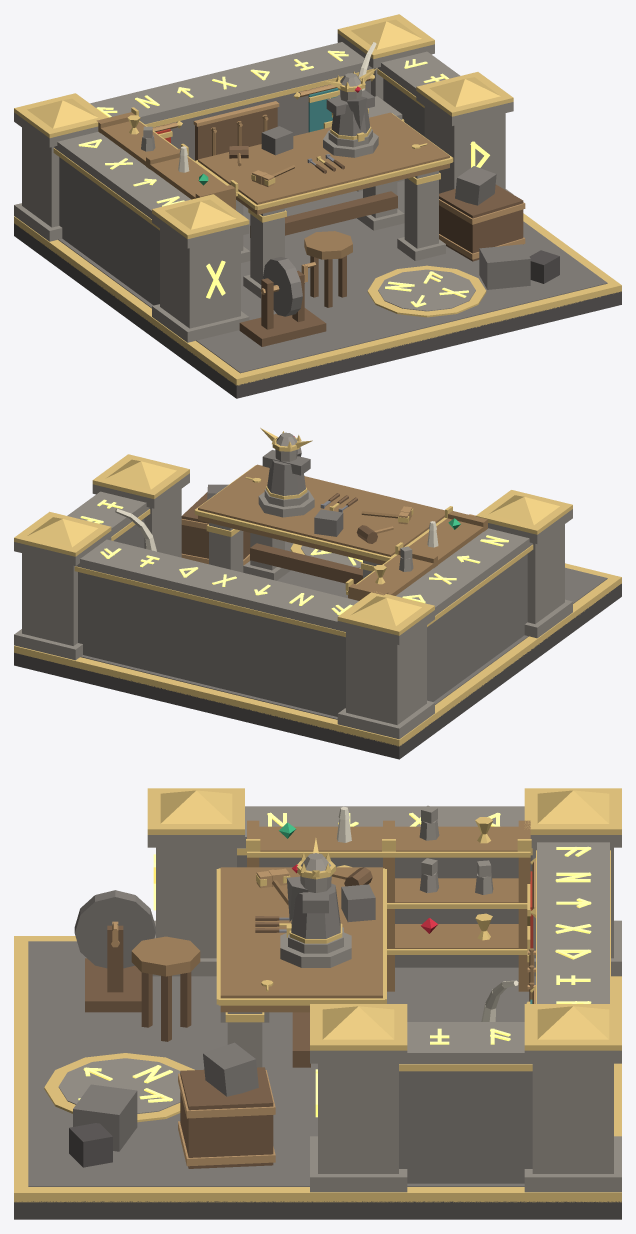
Rendered from craftsdwarf-t3.glb.
3 renders of one model, top to bottom at view 1: azimuth 30°, elevation 25°; view 2: azimuth 150°, elevation 25°; view 3: azimuth 270°, elevation 25°, orthographic. The views are drawn at different scales.
Visible parts, largest first — view 1: floor_top, table_top, pillar_fl, floor_trim, floor_base, wall_left, wall_back_cap, pillar_fr, pillar_bl, wall_left_cap, shelf, crate (+32 smaller); view 2: wall_back, table_top, pillar_bl, wall_back_cap, floor_base, wall_left, floor_trim, pillar_br, pillar_fl, wall_left_cap, shelf, floor_top (+17 smaller); view 3: floor_top, wall_right, table_top, shelf, floor_trim, pillar_br, pillar_fr, floor_base, wall_back_cap, pillar_fl, wall_left, crate (+29 smaller).
Part boxes in pixels (x1,y1,x2,y2): floor_top: (58,179,607,373); table_top: (198,112,449,214); pillar_fl: (152,213,249,342); floor_trim: (14,213,621,385); floor_base: (14,223,621,398); wall_left: (59,157,159,305); wall_back_cap: (90,42,372,124); pillar_fr: (416,91,513,194); pillar_bl: (14,112,98,241); wall_left_cap: (54,132,190,218); shelf: (96,112,235,209); crate: (439,184,523,261); wall_back: (78,572,345,716); table_top: (198,464,444,564); pillar_bl: (337,610,434,739); wall_back_cap: (75,539,358,629); floor_base: (14,583,621,759); wall_left: (427,554,527,701); floor_trim: (14,563,621,746); pillar_br: (14,531,111,660); pillar_fl: (488,509,572,638); wall_left_cap: (396,528,532,615); shelf: (348,511,487,600); floor_top: (80,541,607,719); floor_top: (28,941,535,1186); wall_right: (399,1071,532,1183); table_top: (220,867,382,1012); shelf: (247,820,530,991); floor_trim: (14,936,621,1202); pillar_br: (524,1050,621,1192); pillar_fr: (310,1050,407,1192); floor_base: (14,1201,621,1219); wall_back_cap: (537,842,609,1003); pillar_fl: (147,835,244,976); wall_left: (237,855,532,967); crate: (180,1067,273,1168).
Size of what is drawn, in the model's own units: 3 by 1.4 by 3.
